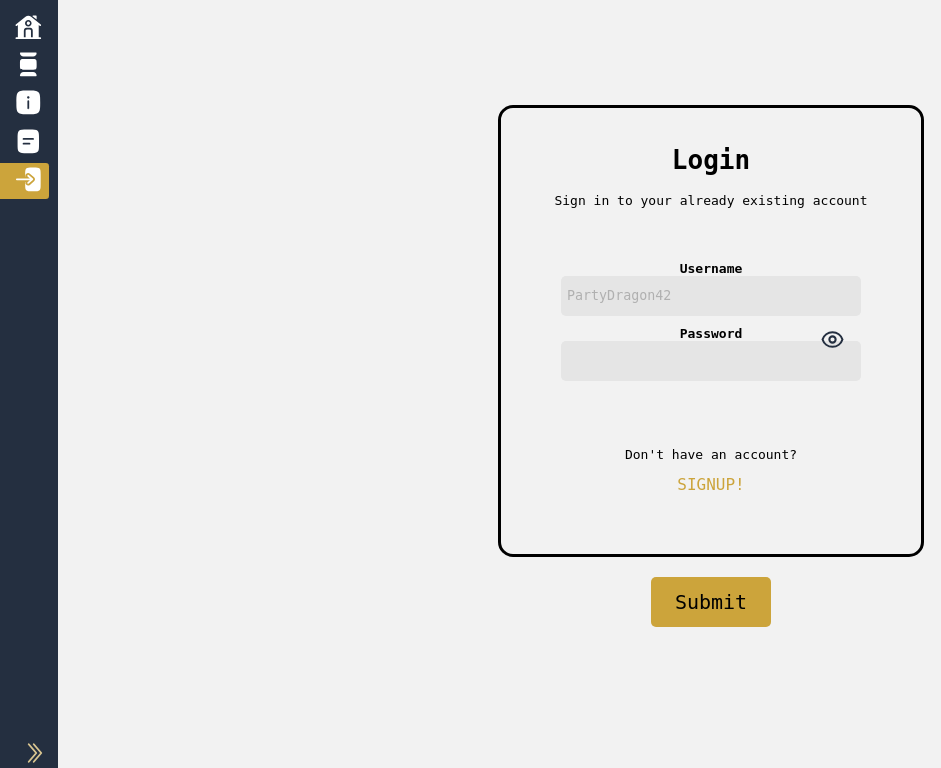
Test: Login Component › should display error message for invalid login
Type "invalidUsername" into the field with placeholder "PartyDragon42" at [711, 296], box [561,276,861,316]
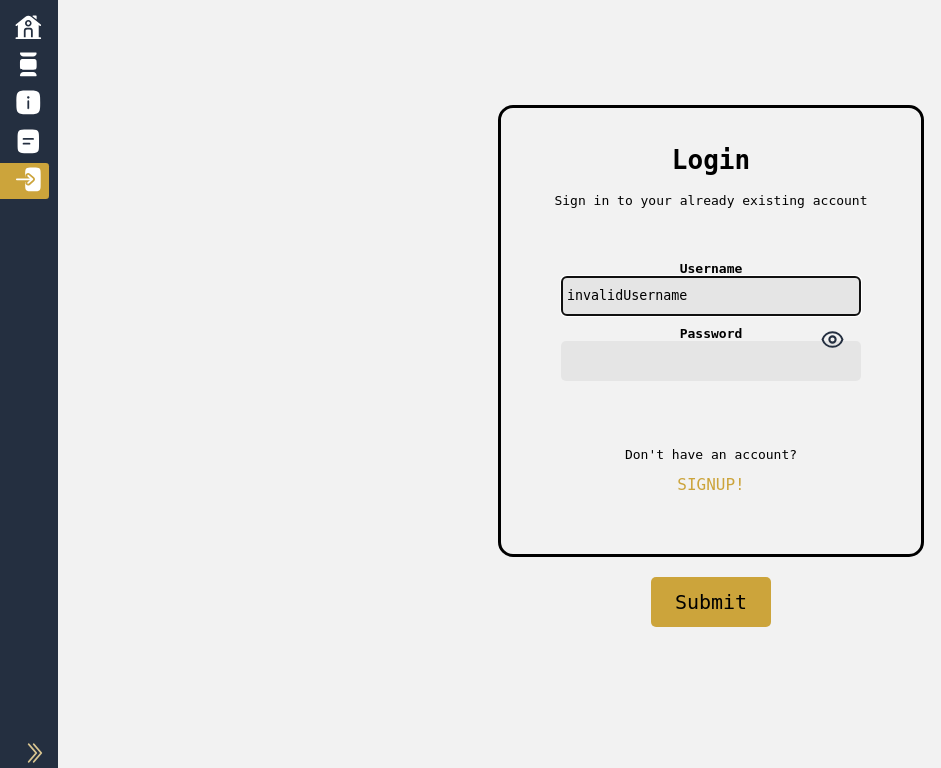
Type "invalidPassword" into the password field at [711, 361], box [561,341,861,381]
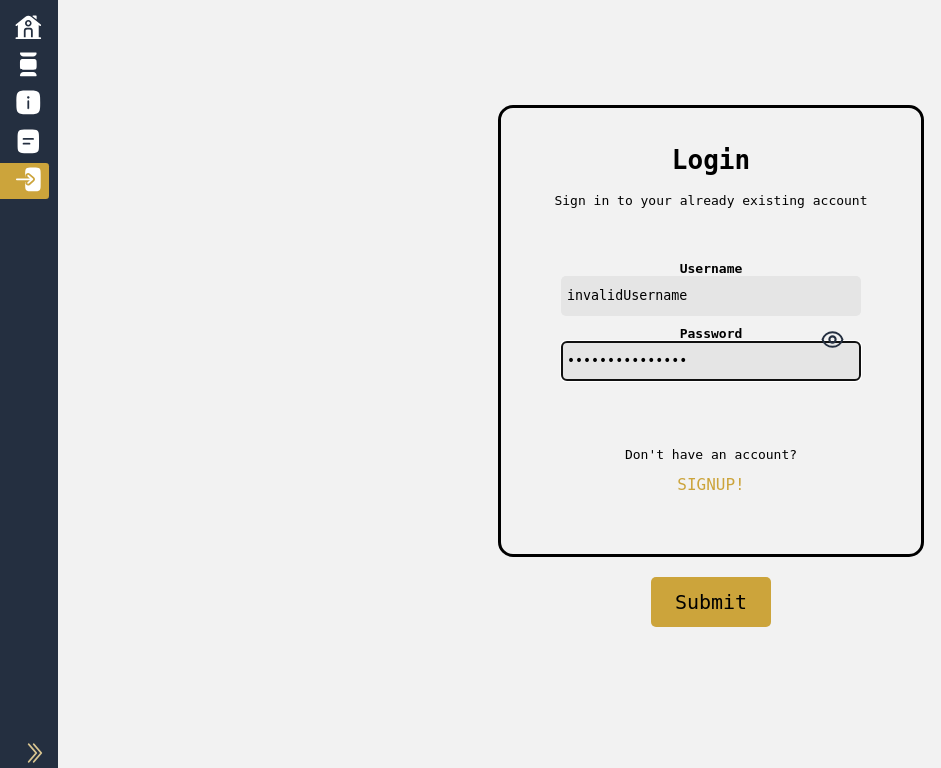
Click the submit button at [711, 602], box [651,577,771,627]
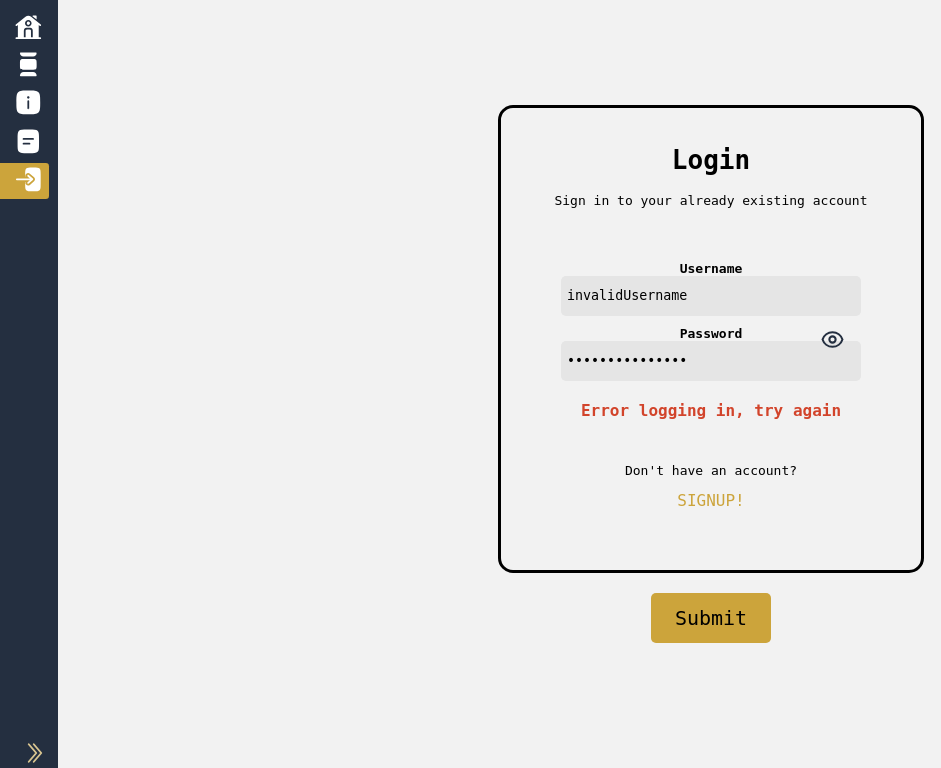
expect the label with class "error-message" reads "Error logging in, try again": met, box [581,401,841,420]
